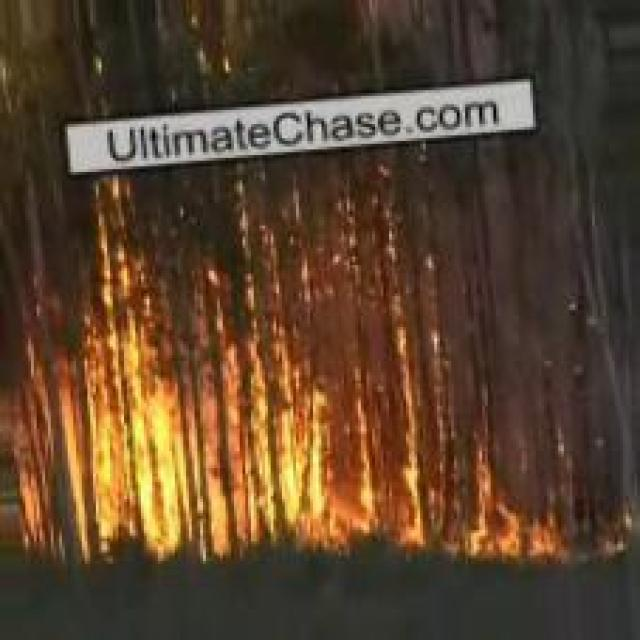fire: (4, 169, 622, 564)
